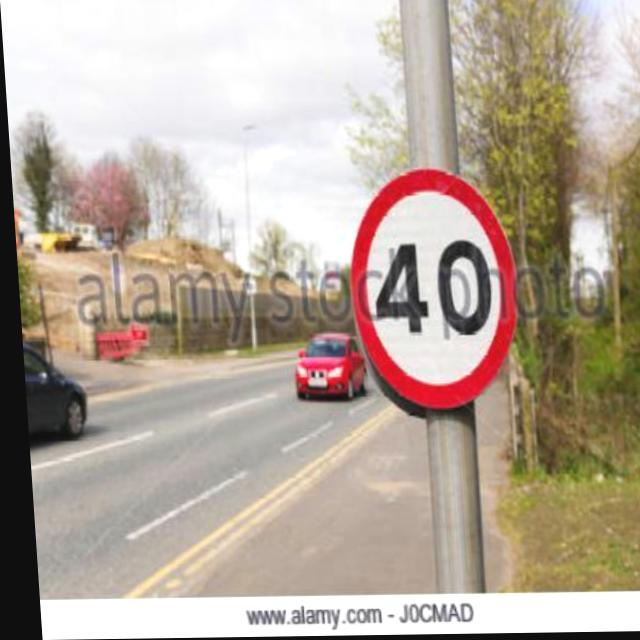limit40: (333, 167, 523, 423)
